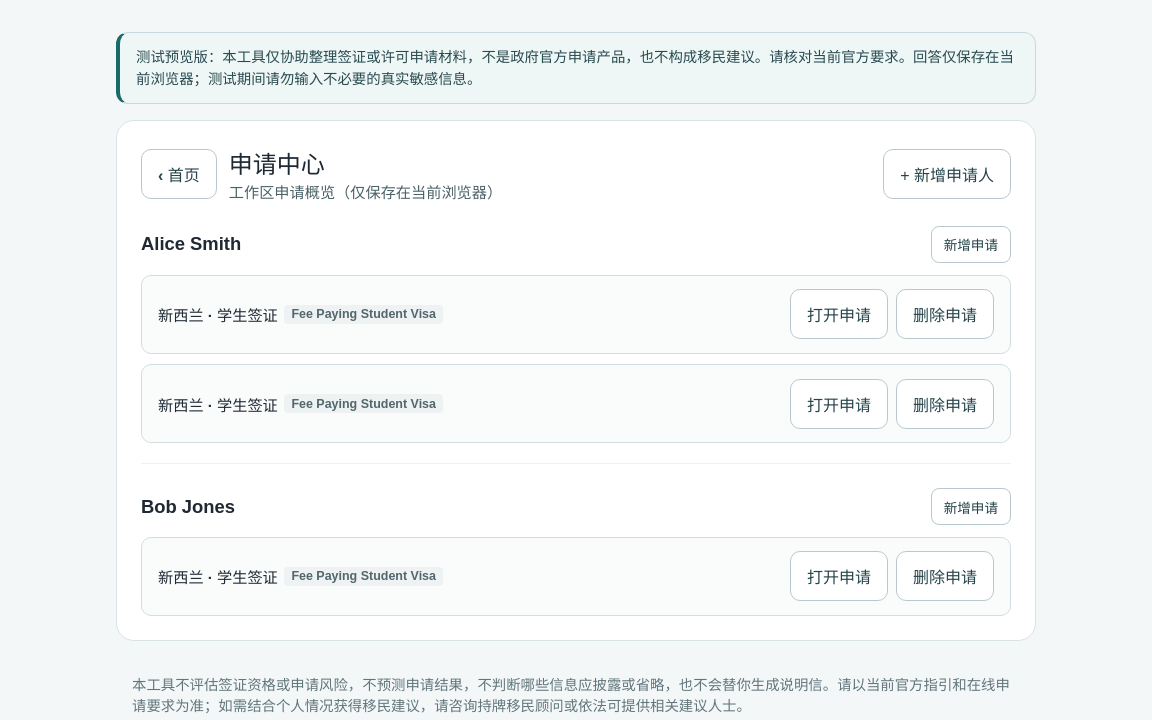
Test: Slice U1.2 — Workspace Re-entry and Application Disambiguation › Hub navigation to "‹ 首页" transitions to route selection without deleting data
Expected: the heading "申请中心" is shown, [229, 151, 325, 178]
Click the button with aria-label "返回首页": coordinates (179, 174) [141, 149, 217, 199]
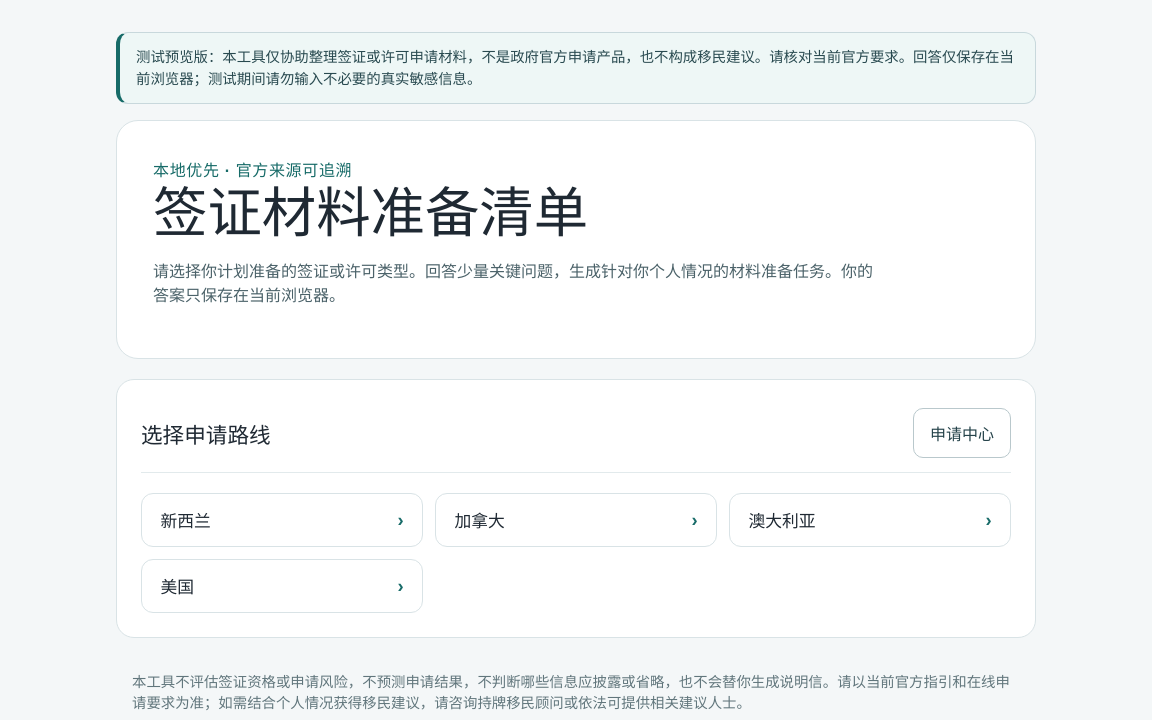
Expected: the button "申请中心" is shown, [913, 408, 1011, 458]
Expected: the heading "选择申请路线" is shown, [141, 418, 271, 449]
